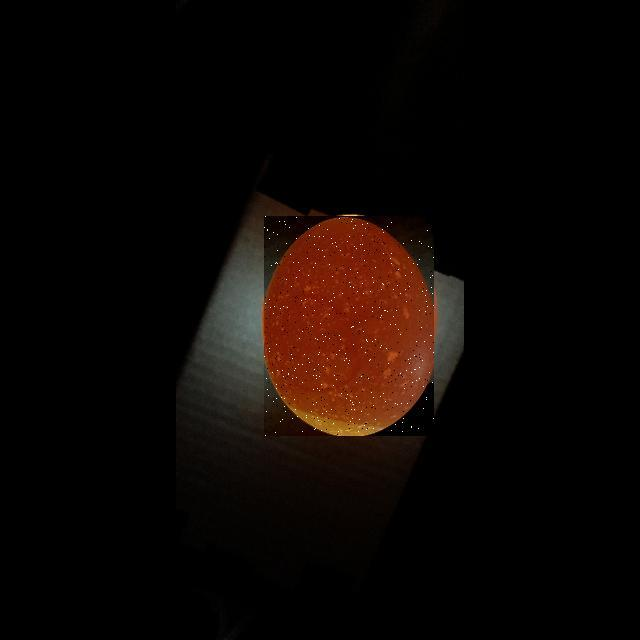Fertile: (264, 216, 434, 436)
